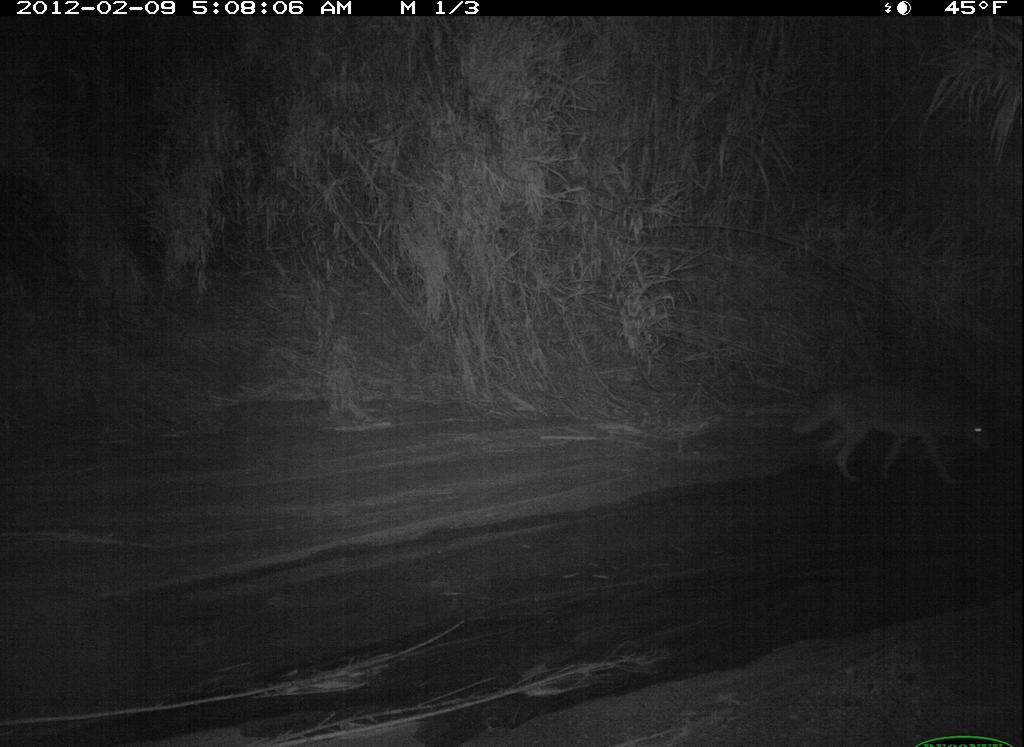coyote: (777, 377, 1001, 496)
